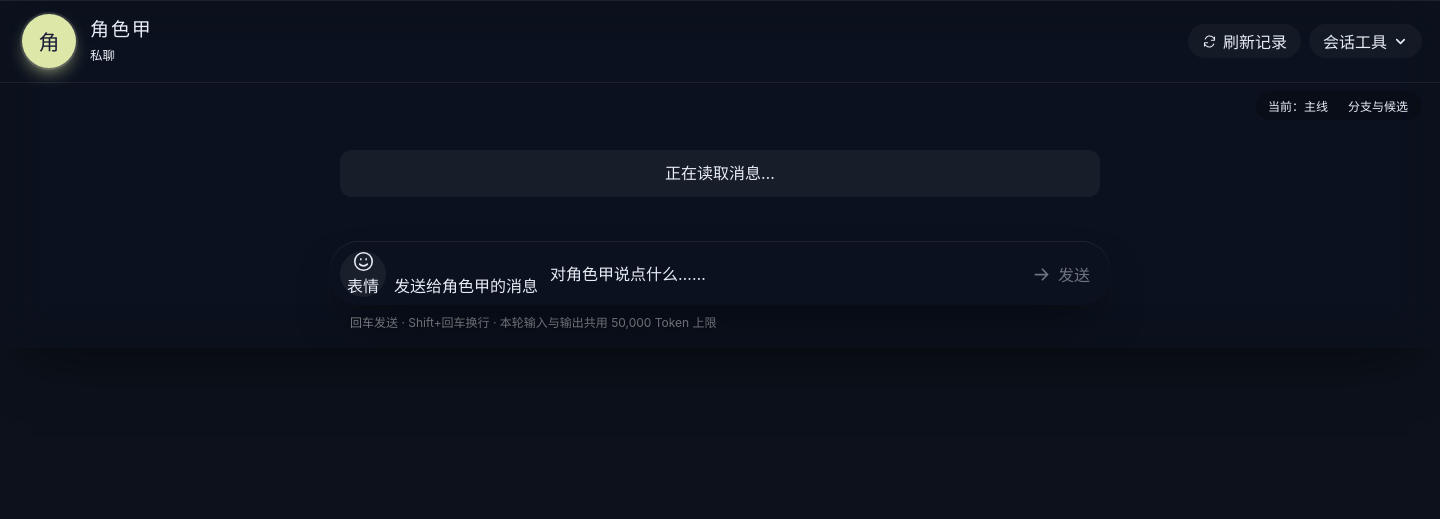
Test: explains a budget denial without replaying an already saved player message
Type "你好" into the text box at (778, 273), box [546,249,1011,297]
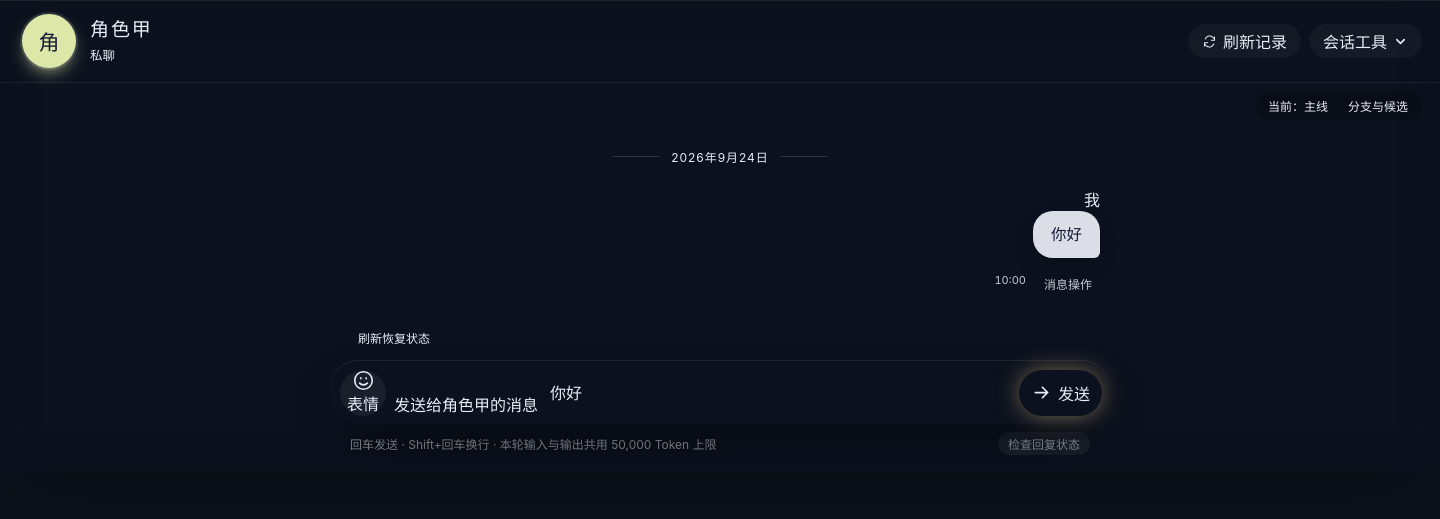
Click the button "发送" at (1060, 392), box [1019,370,1102,416]
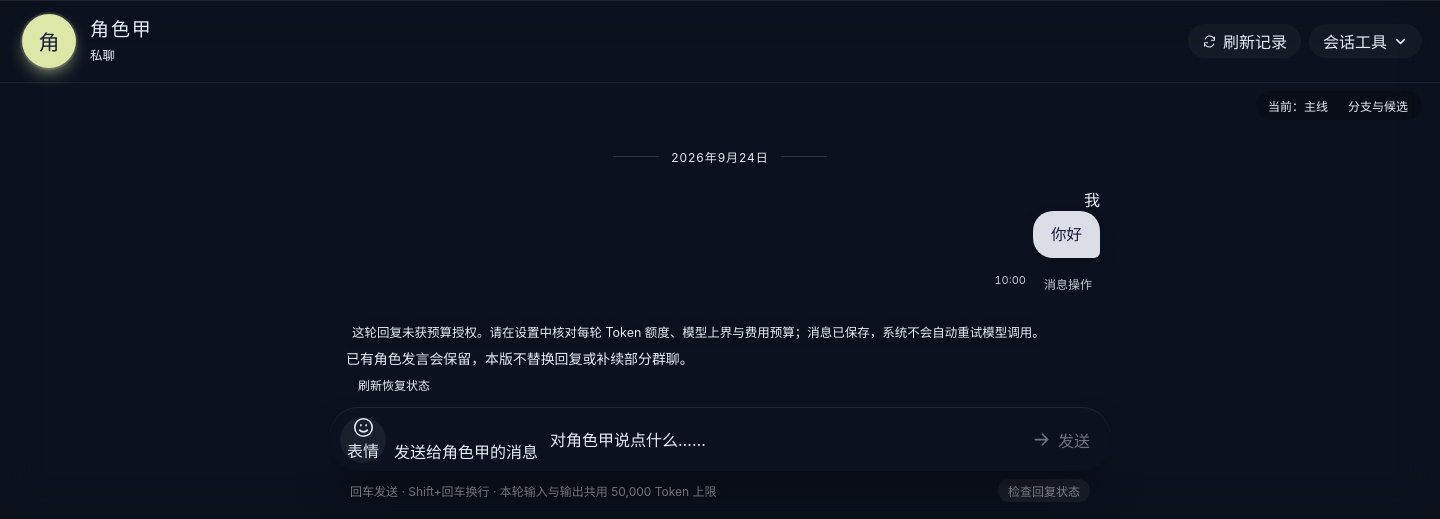
Expected: the text "这轮回复未获预算授权。请在设置中核对每轮 Token 额度、模型上界与费用预算；消息已保存，系统不会自动重试模型调用。" is shown, [330,324,1110,342]
